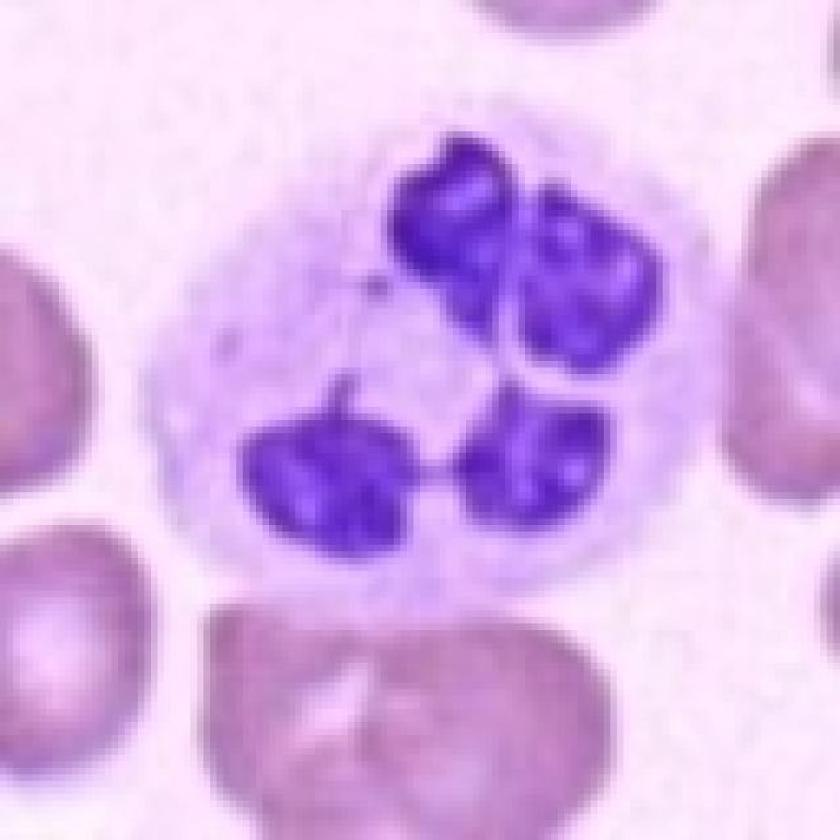neutrophil: (130, 102, 723, 618)
